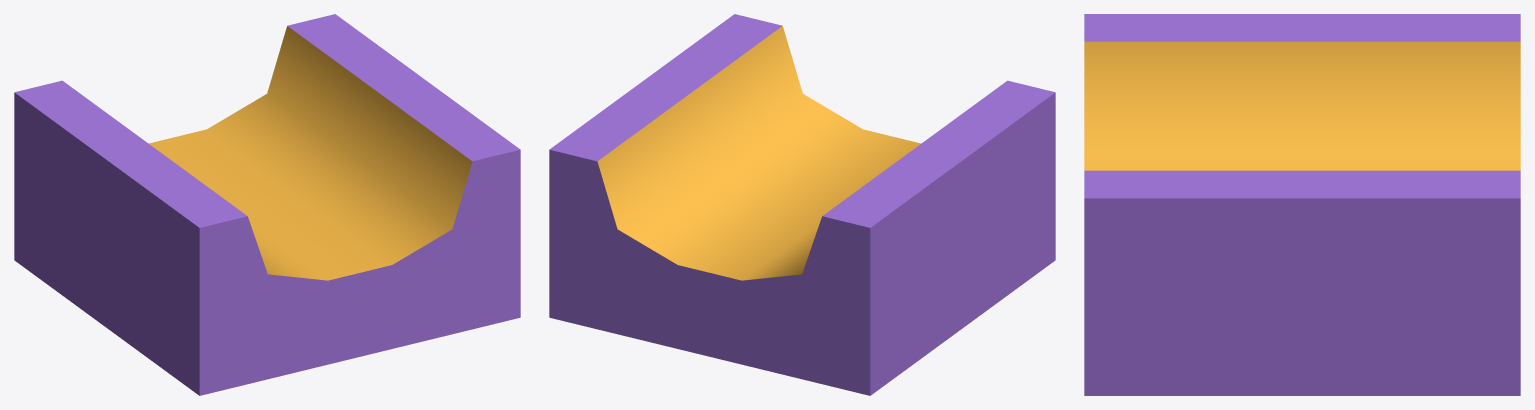
File: straight.glb
3 renders of one model, left to right at view 1: azimuth 30°, elevation 25°; view 2: azimuth 150°, elevation 25°; view 3: azimuth 270°, elevation 25°, orthographic. The views are drawn at different scales.
Parts seen in each view (by area): view 1: straight; view 2: straight; view 3: straight.
Boxes of the visible parts, x1,y1,x2,y2 form: straight: [14, 14, 520, 395]; straight: [549, 14, 1055, 395]; straight: [1084, 14, 1520, 395].
Bounding box in the file's own units: 1 × 0.5001 × 1.
Materials: 1 (1 with a texture image).
